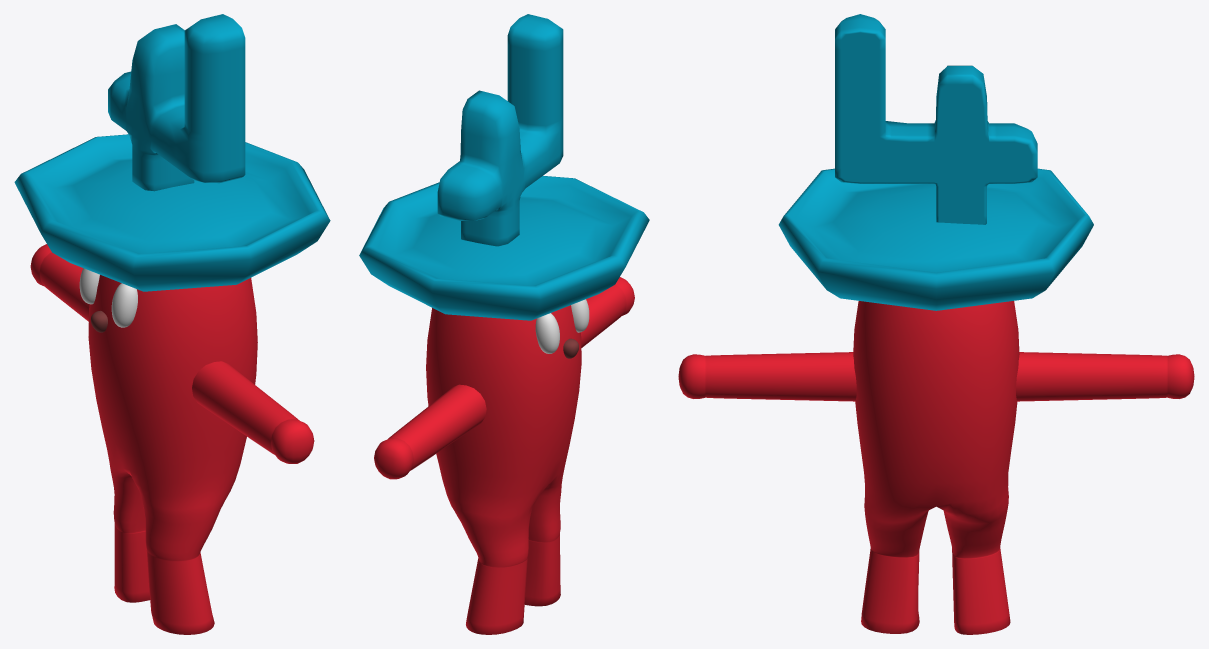
File: numero 4.fbx
The picture shows the model from 3 angles, left to right: view 1: azimuth 30°, elevation 25°; view 2: azimuth 150°, elevation 25°; view 3: azimuth 270°, elevation 25°; orthographic projection. The views are drawn at different scales.
Visible parts, largest first — view 1: polySurface16; view 2: polySurface16; view 3: polySurface16.
Boxes of the visible parts, x1,y1,x2,y2 form: polySurface16: (14,14,330,634); polySurface16: (359,14,649,634); polySurface16: (678,14,1194,634).
Size of the model in its own units: 64.64 by 143 by 110.
